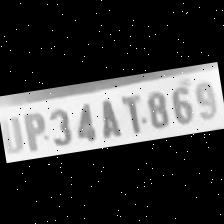3: (43, 102, 74, 146)
4: (68, 99, 98, 142)
6: (166, 80, 196, 125)
8: (141, 86, 171, 130)
9: (190, 75, 220, 120)
A: (90, 94, 122, 140)
P: (18, 106, 48, 151)
T: (115, 90, 145, 134)
U: (0, 111, 24, 153)
